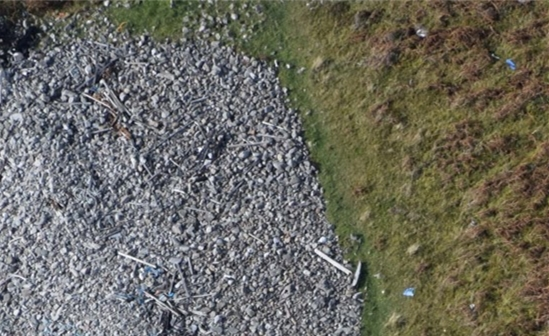straight_bar: (310, 241, 353, 278)
white_in_green: (388, 271, 432, 311), (492, 42, 536, 82)
wood_together: (63, 55, 146, 135), (111, 246, 201, 318)
